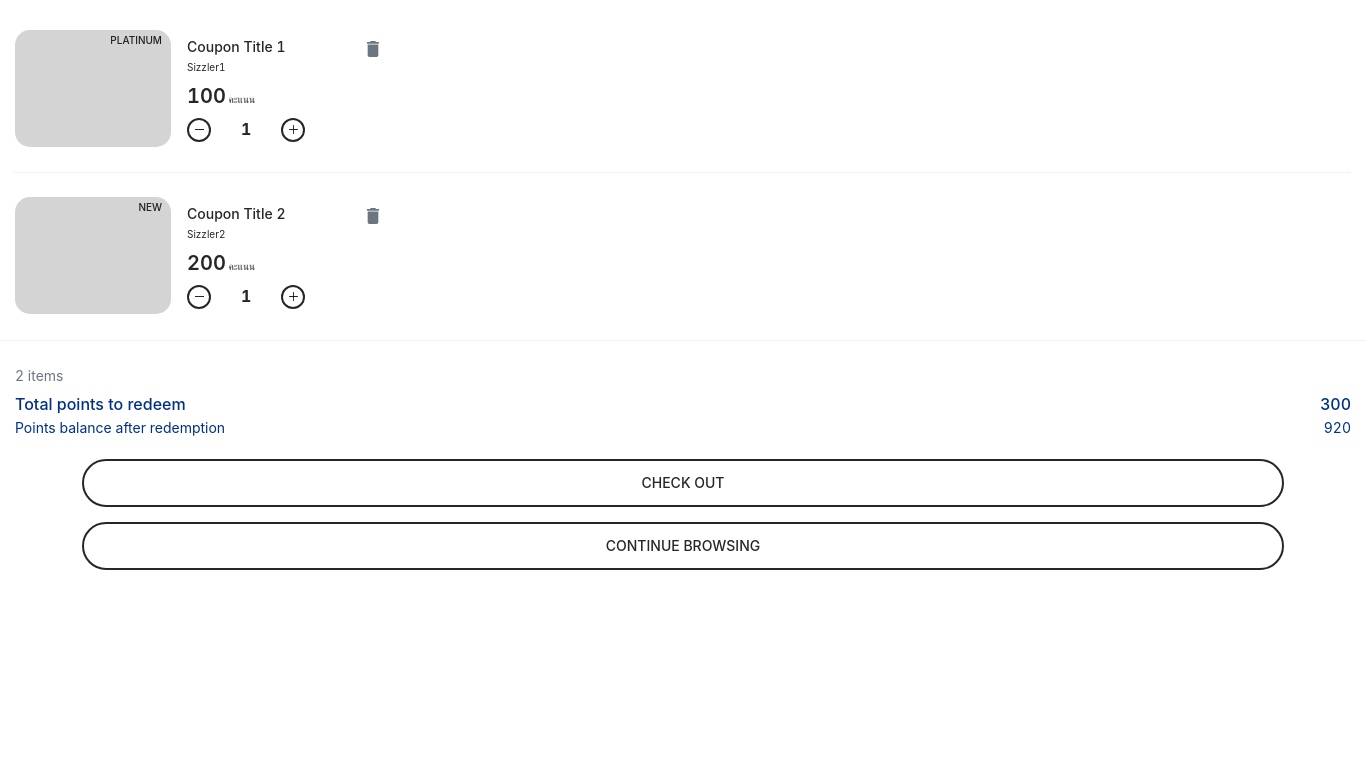
it: NonEmptyCartView › should render the modal when the CHECK OUT button is clicked when the user is guest
The width and height of the screenshot is (1366, 768).
Click the button "CHECK OUT": (683,483) [82,459,1284,507]
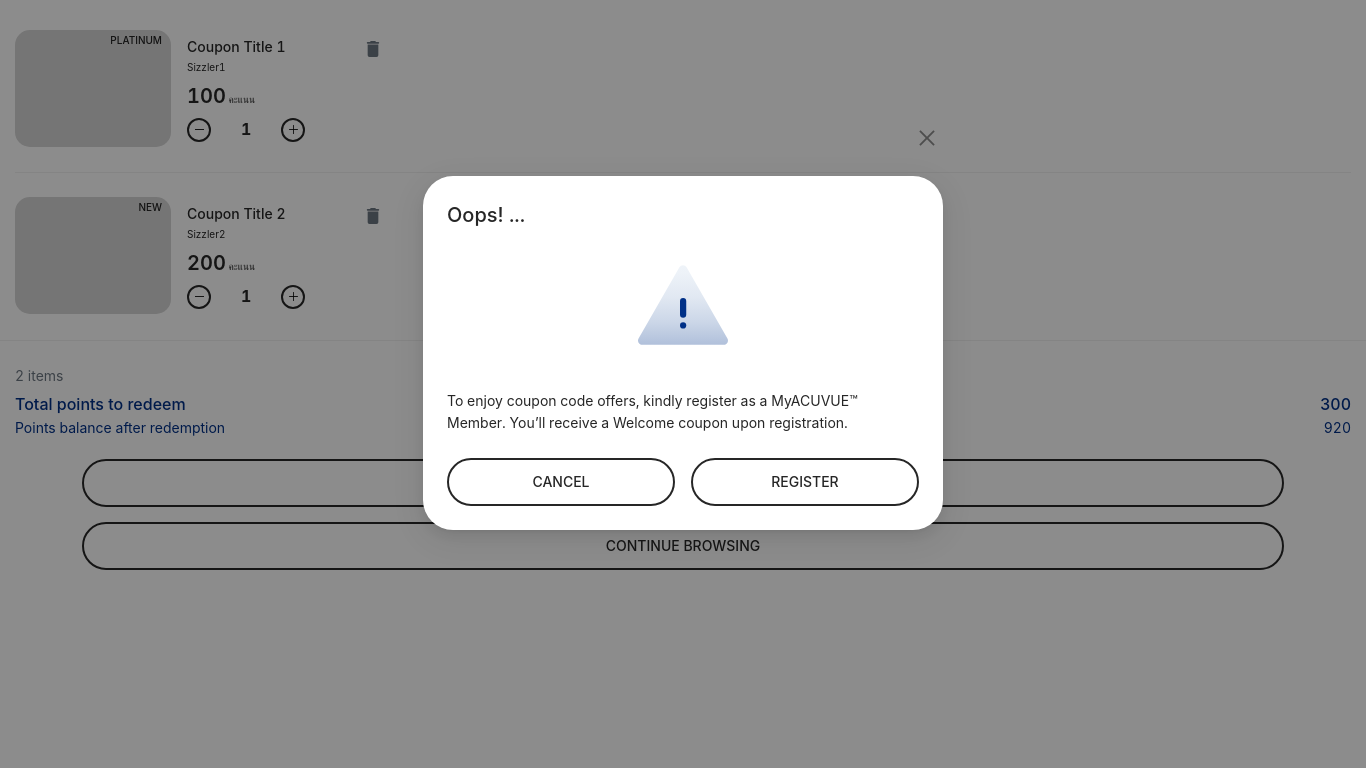
Result: the dialog is shown at [423,176,943,530]
Result: the heading "Oops! ..." is shown at [447,203,525,227]
Result: the text "To enjoy coupon code offers, kindly register as a MyACUVUE™ Member. You’ll receive a Welcome coupon upon registration." is shown at [447,392,858,430]
